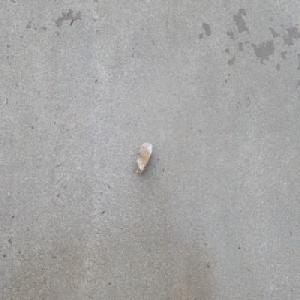Rock: (135, 141, 153, 174)
